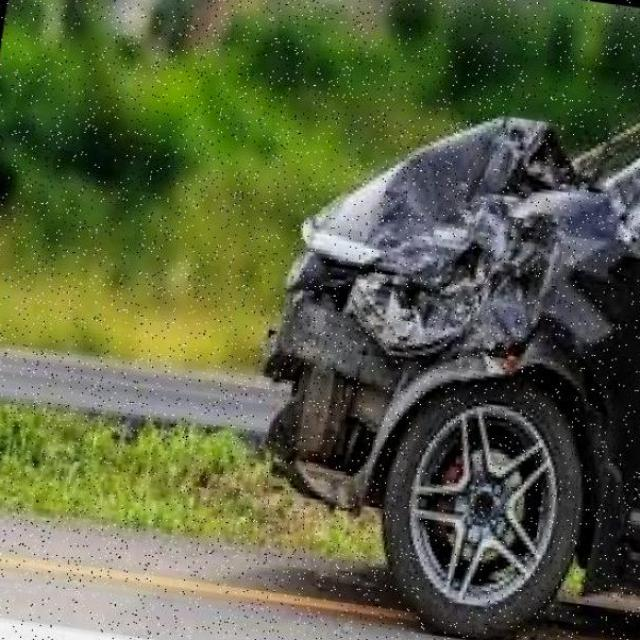accident: (176, 35, 640, 640)
